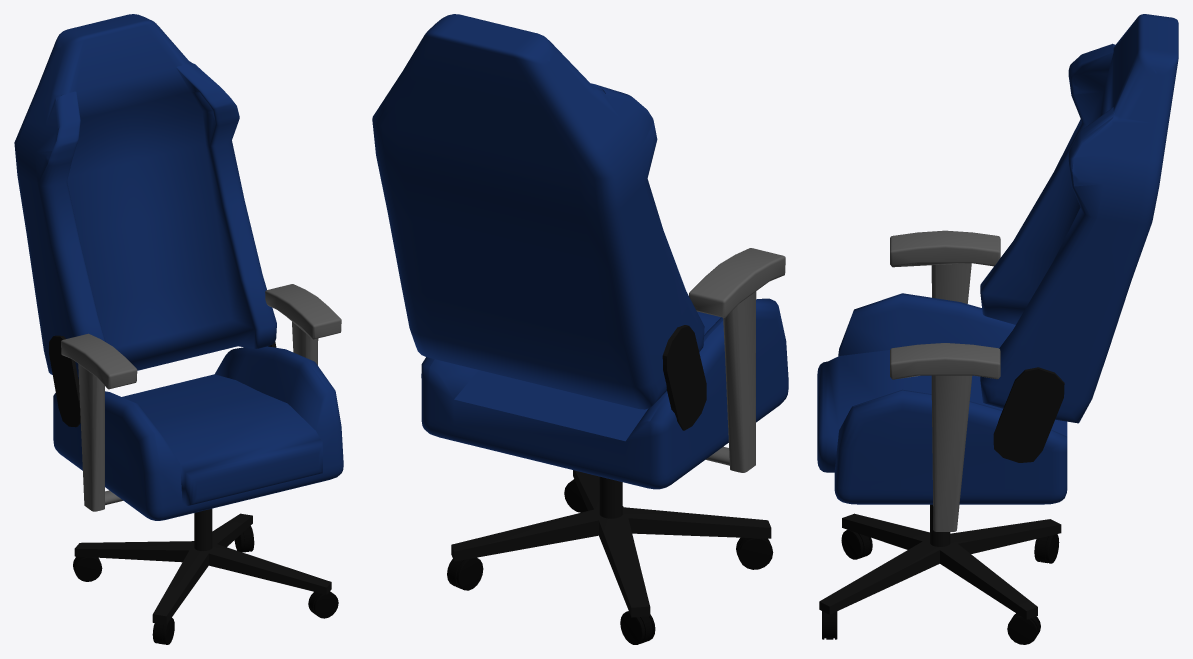
File: gaming chair.FBX
The picture shows the model from 3 angles, left to right: view 1: azimuth 30°, elevation 25°; view 2: azimuth 150°, elevation 25°; view 3: azimuth 270°, elevation 25°; orthographic projection. The views are drawn at different scales.
Visible parts, largest first — view 1: Box025, Box022, Box021, Box023, Box024, Box026, Cylinder002, Cylinder004, Cylinder006; view 2: Box025, Box022, Box021, Box023, Box026, Cylinder005, Cylinder007, Cylinder002, Cylinder006; view 3: Box025, Box022, Box021, Box024, Box023, Box027, Cylinder007, Cylinder005, Cylinder006.
Part boxes in pixels (x1,y1,x2,y2): Box025: (14, 14, 276, 378); Box022: (53, 346, 343, 520); Box021: (74, 513, 331, 624); Box023: (61, 333, 137, 511); Box024: (265, 284, 341, 365); Box026: (49, 335, 80, 427); Cylinder002: (194, 508, 212, 550); Cylinder004: (308, 591, 338, 618); Cylinder006: (73, 556, 102, 581); Box025: (372, 14, 704, 409); Box022: (421, 298, 788, 489); Box021: (451, 470, 771, 617); Box023: (689, 248, 785, 472); Box026: (662, 325, 706, 430); Cylinder005: (736, 537, 773, 569); Cylinder007: (447, 557, 483, 590); Cylinder002: (599, 476, 622, 518); Cylinder006: (620, 611, 655, 644); Box025: (980, 14, 1178, 423); Box022: (817, 293, 1067, 504); Box021: (819, 513, 1061, 619); Box024: (890, 343, 1000, 531); Box023: (890, 230, 1000, 303); Box027: (993, 367, 1064, 462); Cylinder007: (1007, 613, 1040, 644); Cylinder005: (841, 529, 872, 559); Cylinder006: (1034, 534, 1059, 563).
Size of the model in its own units: 22.92 by 47.2 by 27.31.
